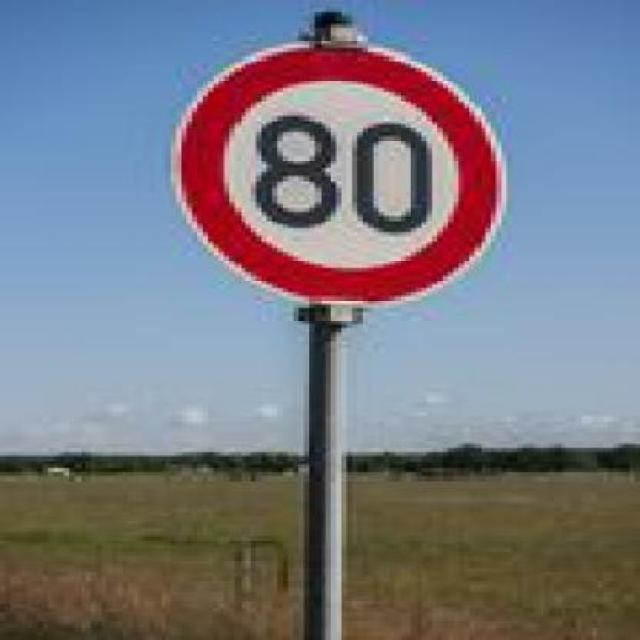forb_speed_over_80: (192, 60, 486, 292)
